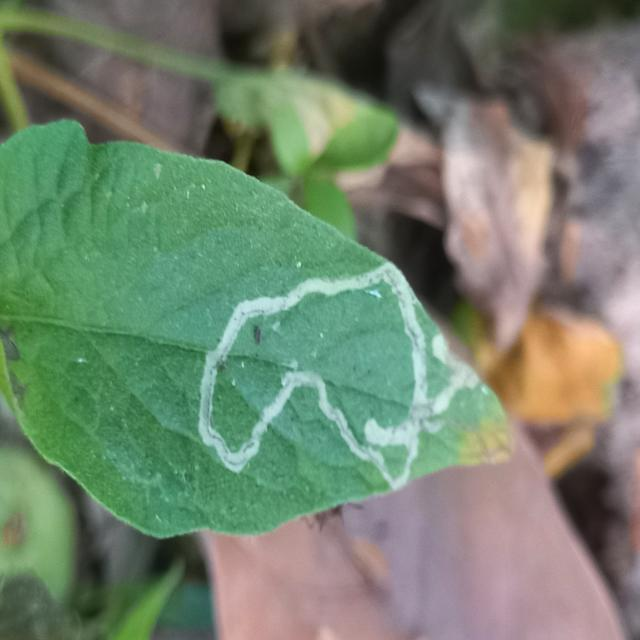Tuta absoluta: (191, 243, 489, 500)
